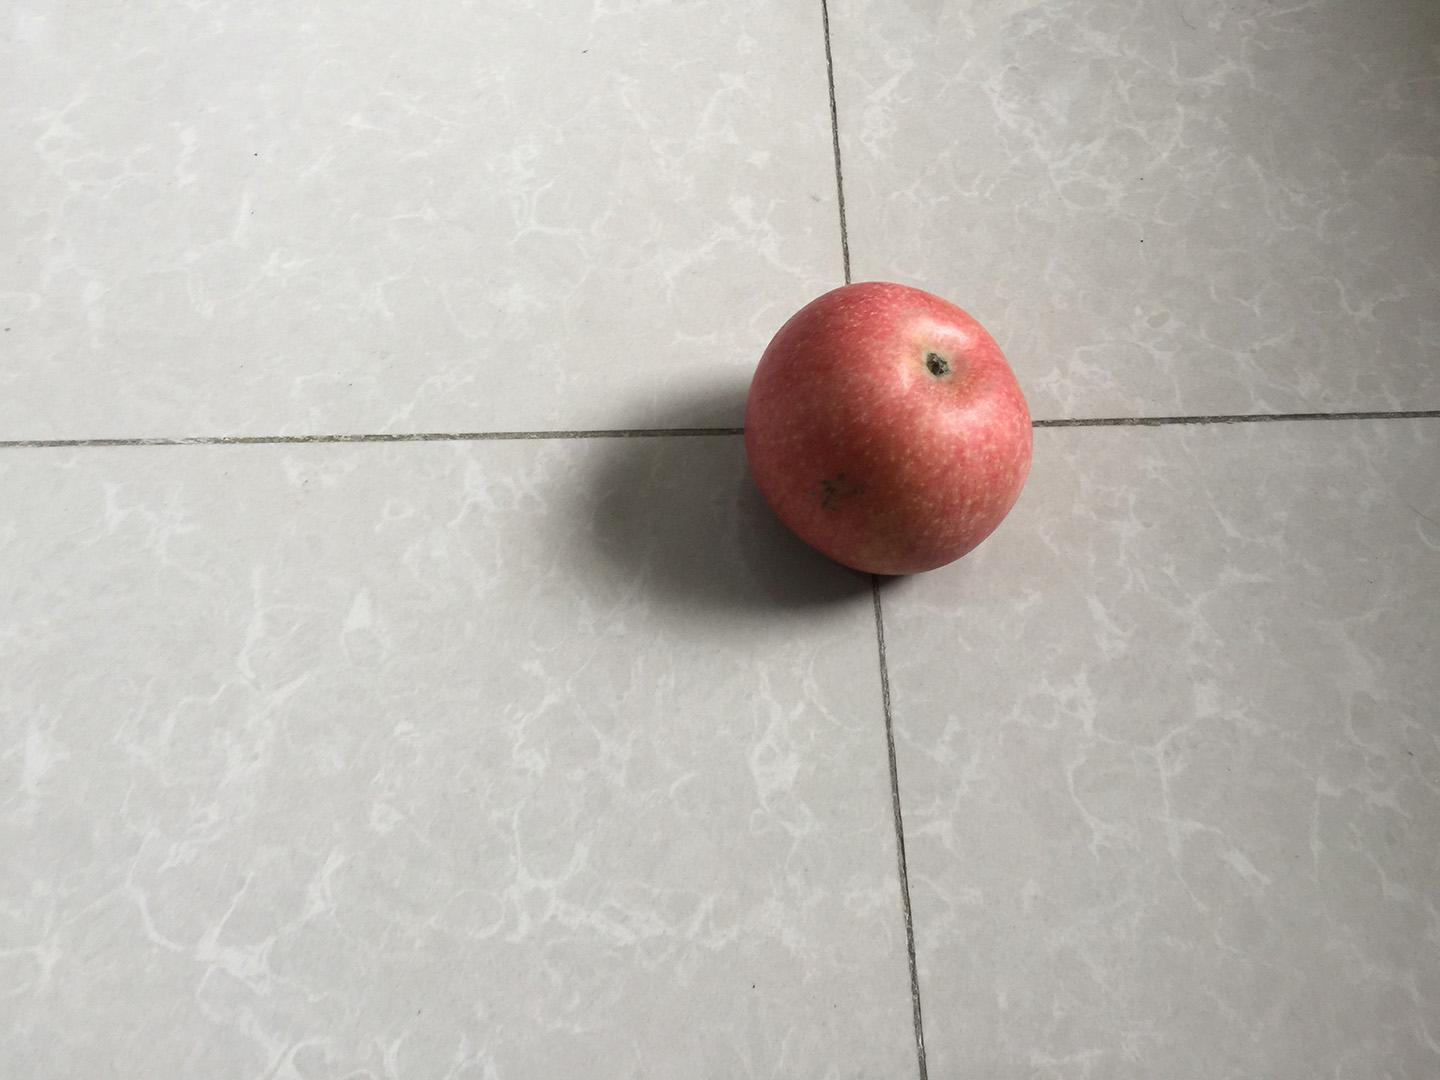apple: (737, 275, 1049, 587)
